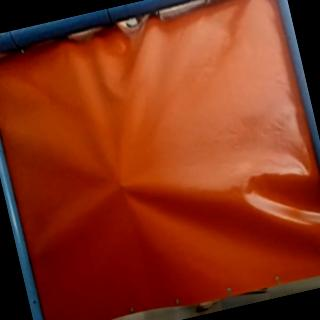Hit-hRxx: (115, 176, 134, 192)
